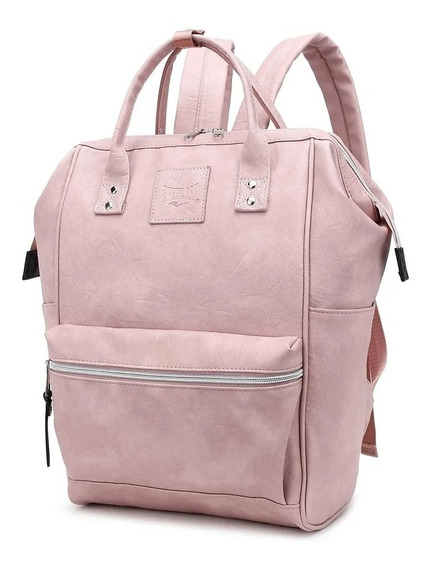cartera: (25, 24, 407, 532)
